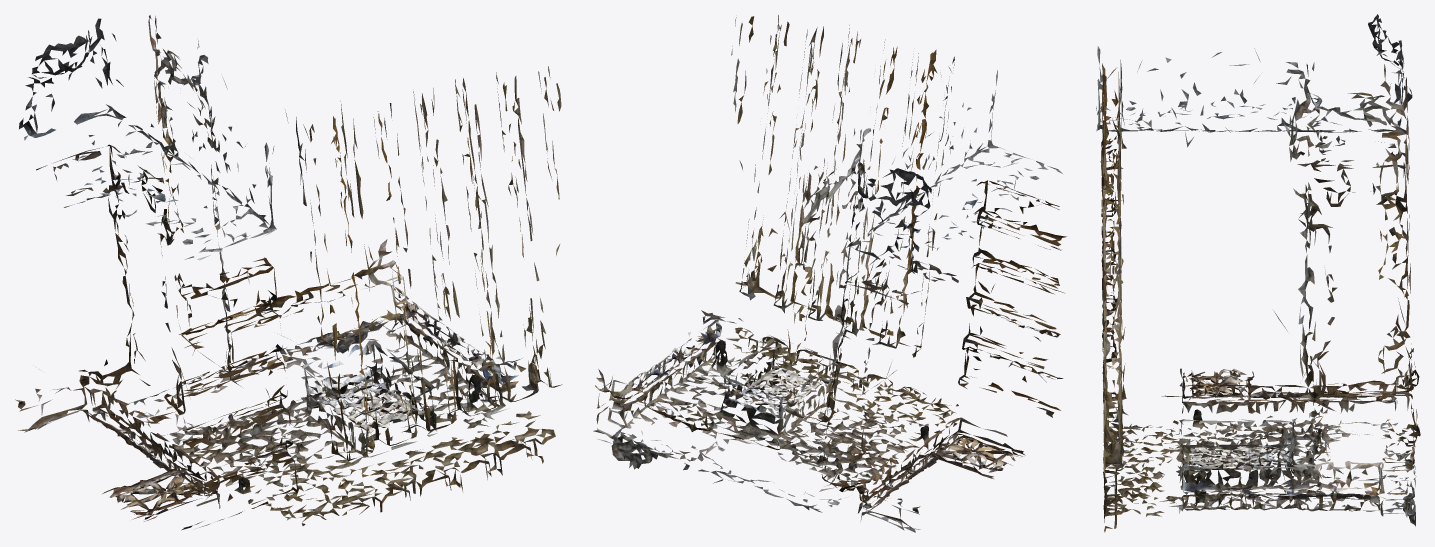
The picture shows the model from 3 angles, left to right: view 1: azimuth 30°, elevation 25°; view 2: azimuth 150°, elevation 25°; view 3: azimuth 270°, elevation 25°; orthographic projection. The views are drawn at different scales.
Size of the model in its own units: 6.82 by 7.02 by 5.38.
1 material, 1 textured.
